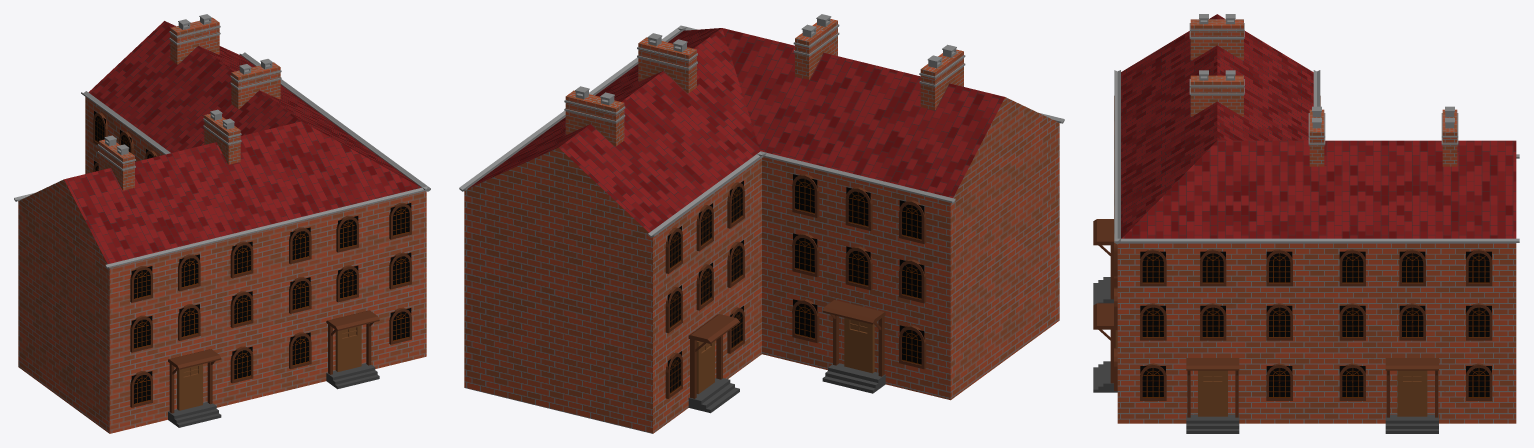
File: Corner Building.fbx
3 renders of one model, left to right at view 1: azimuth 30°, elevation 25°; view 2: azimuth 150°, elevation 25°; view 3: azimuth 270°, elevation 25°, orthographic. The views are drawn at different scales.
Visible parts, largest first — view 1: Corner Building walls (long), Corner Building roof (long), Door.001, Door.002, Chimney.003, Chimney.002, gutter.003, Chimney.004, Chimney.001, gutter.004, gutter.005, Window.091 (+15 smaller); view 2: Corner Building walls (long), Corner Building roof (long), Door.006, Door.005, Chimney.003, Chimney.002, Chimney.004, Chimney.001, gutter.004, gutter.002, gutter.005, Window.119 (+7 smaller); view 3: Corner Building roof (long), Corner Building walls (long), Door.003, Door.004, Chimney.001, gutter.004, Chimney.004, Door.001, Door.002, gutter.003, Chimney.002, Chimney.003 (+16 smaller).
Part boxes in pixels (<box>): Corner Building walls (long): <box>18,97,426,433</box>; Corner Building roof (long): <box>64,21,421,263</box>; Door.001: <box>326,310,379,389</box>; Door.002: <box>168,349,221,427</box>; Chimney.003: <box>169,14,220,64</box>; Chimney.002: <box>230,59,281,109</box>; gutter.003: <box>105,186,430,268</box>; Chimney.004: <box>97,135,135,190</box>; Chimney.001: <box>203,109,241,164</box>; gutter.004: <box>239,52,430,191</box>; gutter.005: <box>81,91,170,154</box>; Window.091: <box>179,254,199,287</box>; Corner Building walls (long): <box>464,97,1059,433</box>; Corner Building roof (long): <box>468,28,1004,232</box>; Door.006: <box>822,300,885,393</box>; Door.005: <box>688,314,739,413</box>; Chimney.003: <box>564,86,625,146</box>; Chimney.002: <box>637,33,697,93</box>; Chimney.004: <box>919,44,965,110</box>; Chimney.001: <box>793,14,839,79</box>; gutter.004: <box>459,25,686,191</box>; gutter.002: <box>757,151,955,203</box>; gutter.005: <box>648,151,766,237</box>; Window.119: <box>846,187,870,226</box>; Corner Building roof (long): <box>1121,14,1516,238</box>; Corner Building walls (long): <box>1117,243,1516,423</box>; Door.003: <box>1385,358,1438,433</box>; Door.004: <box>1186,358,1239,433</box>; Chimney.001: <box>1189,70,1244,116</box>; gutter.004: <box>1114,238,1519,242</box>; Chimney.004: <box>1189,14,1244,60</box>; Door.001: <box>1093,303,1117,392</box>; Door.002: <box>1093,219,1113,305</box>; gutter.003: <box>1114,70,1120,244</box>; Chimney.002: <box>1308,106,1325,166</box>; Chimney.003: <box>1441,106,1458,166</box>.
Size of the model in its own units: 1283 by 886 by 1283.
Materials: 9 (4 with a texture image).
